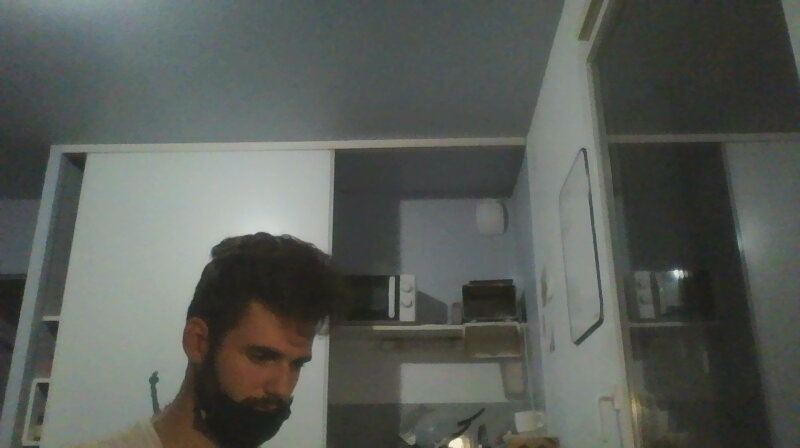with_incorrect_mask: (190, 273, 317, 445)
